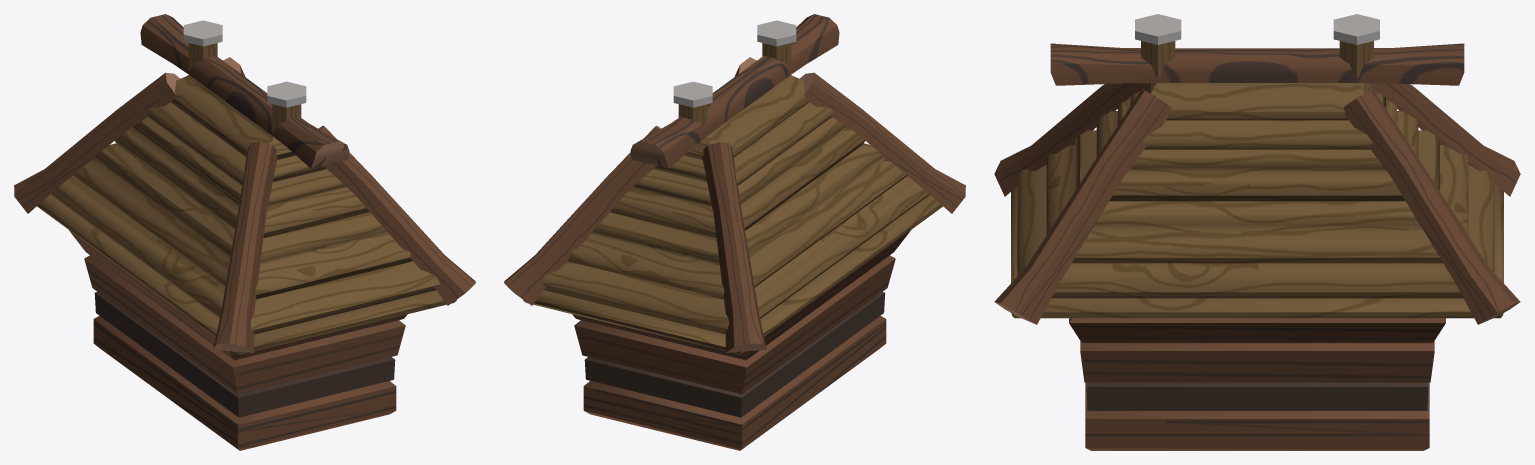
File: house_modified.fbx
3 renders of one model, left to right at view 1: azimuth 30°, elevation 25°; view 2: azimuth 150°, elevation 25°; view 3: azimuth 270°, elevation 25°, orthographic. The views are drawn at different scales.
Parts seen in each view (by area): view 1: House, Stud2, Stud8, Stud6, Top3, Top2; view 2: House, Stud6, Stud10, Stud2, Top2, Top3; view 3: House, Stud10, Stud8, Stud6, Stud2, Top2, Top3.
Part boxes in pixels (left/top/right/bottom): House: left=37, top=14, right=456, bottom=450; Stud2: left=213, top=142, right=277, bottom=352; Stud8: left=318, top=125, right=475, bottom=305; Stud6: left=14, top=72, right=180, bottom=213; Top3: left=183, top=20, right=222, bottom=70; Top2: left=267, top=81, right=306, bottom=131; House: left=523, top=14, right=942, bottom=450; Stud6: left=702, top=142, right=766, bottom=352; Stud10: left=504, top=125, right=660, bottom=305; Stud2: left=799, top=72, right=965, bottom=213; Top2: left=757, top=20, right=796, bottom=70; Top3: left=673, top=81, right=712, bottom=131; House: left=1011, top=43, right=1503, bottom=450; Stud10: left=1343, top=90, right=1520, bottom=324; Stud8: left=994, top=90, right=1171, bottom=324; Stud6: left=1371, top=83, right=1520, bottom=196; Stud2: left=994, top=83, right=1143, bottom=196; Top2: left=1135, top=14, right=1181, bottom=77; Top3: left=1333, top=14, right=1379, bottom=77.
Bounding box in the file's own units: 2.38 × 2.82 × 3.52.
3 materials, 3 textured.
